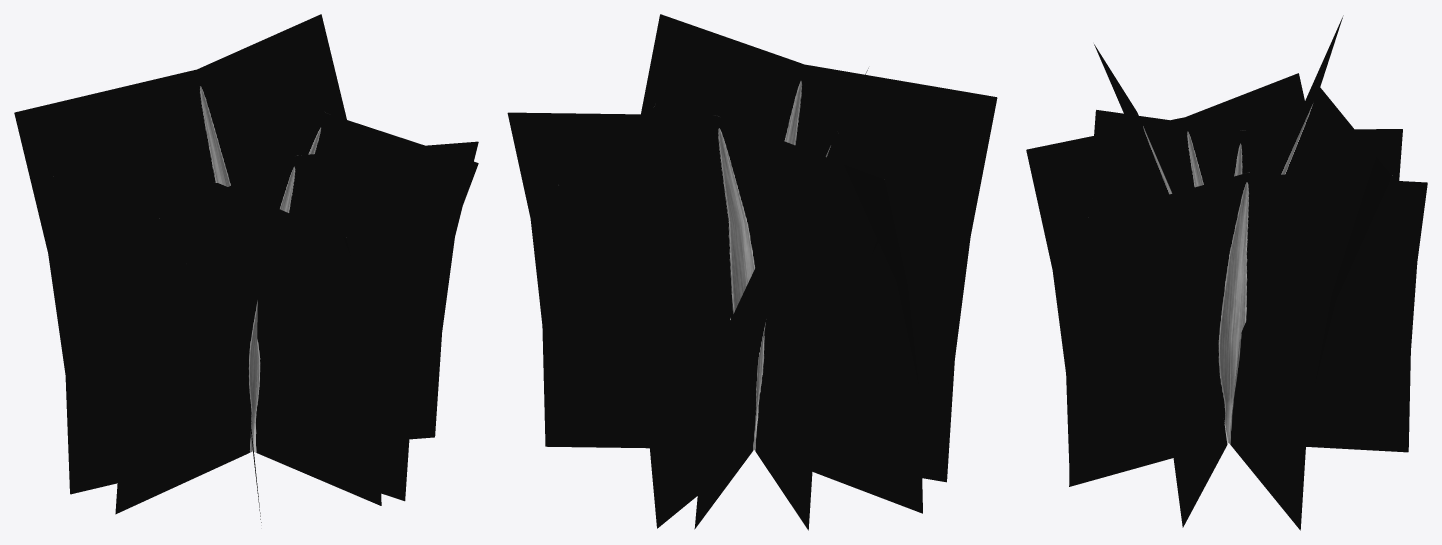
Rendered from OnionPlant02.fbx.
The picture shows the model from 3 angles, left to right: view 1: azimuth 30°, elevation 25°; view 2: azimuth 150°, elevation 25°; view 3: azimuth 270°, elevation 25°; orthographic projection. The views are drawn at different scales.
Parts seen in each view (by area): view 1: OnionPlant02_LOD0; view 2: OnionPlant02_LOD0; view 3: OnionPlant02_LOD0.
Boxes of the visible parts, x1,y1,x2,y2 form: OnionPlant02_LOD0: [14, 14, 478, 522]; OnionPlant02_LOD0: [507, 14, 997, 530]; OnionPlant02_LOD0: [1026, 15, 1427, 530].
Size of what is drawn, in the model's own units: 0.5555 by 0.5615 by 0.5664.
